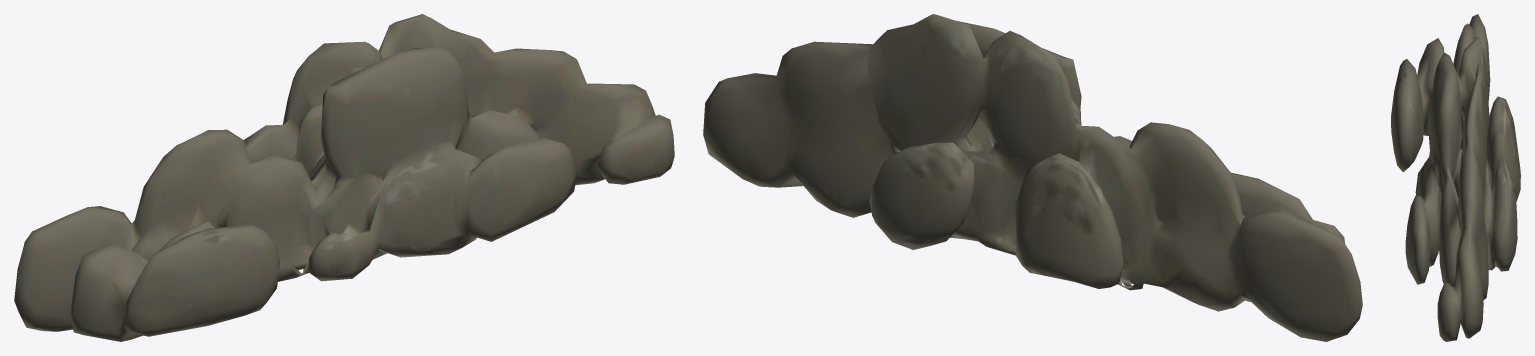
Rendered from toad-prop3d-rock-pile.glb.
3 views of the same model, side by side, from view 1: azimuth 30°, elevation 25°; view 2: azimuth 150°, elevation 25°; view 3: azimuth 270°, elevation 25° (orthographic). The views are drawn at different scales.
Visible parts, largest first — view 1: world; view 2: world; view 3: world.
Boxes of the visible parts, left/top/right/bottom form: world: left=14, top=14, right=674, bottom=341; world: left=703, top=14, right=1362, bottom=341; world: left=1391, top=14, right=1520, bottom=341.
Size of the model in its own units: 0.3 by 0.1 by 0.06.
Materials: 1 (1 with a texture image).
